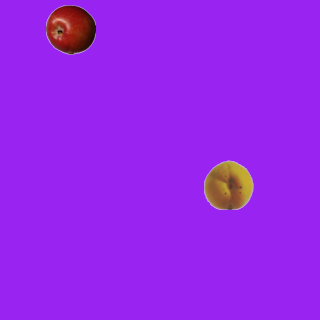Apple Braeburn: (45, 4, 95, 54)
Peach 2: (203, 159, 253, 209)
